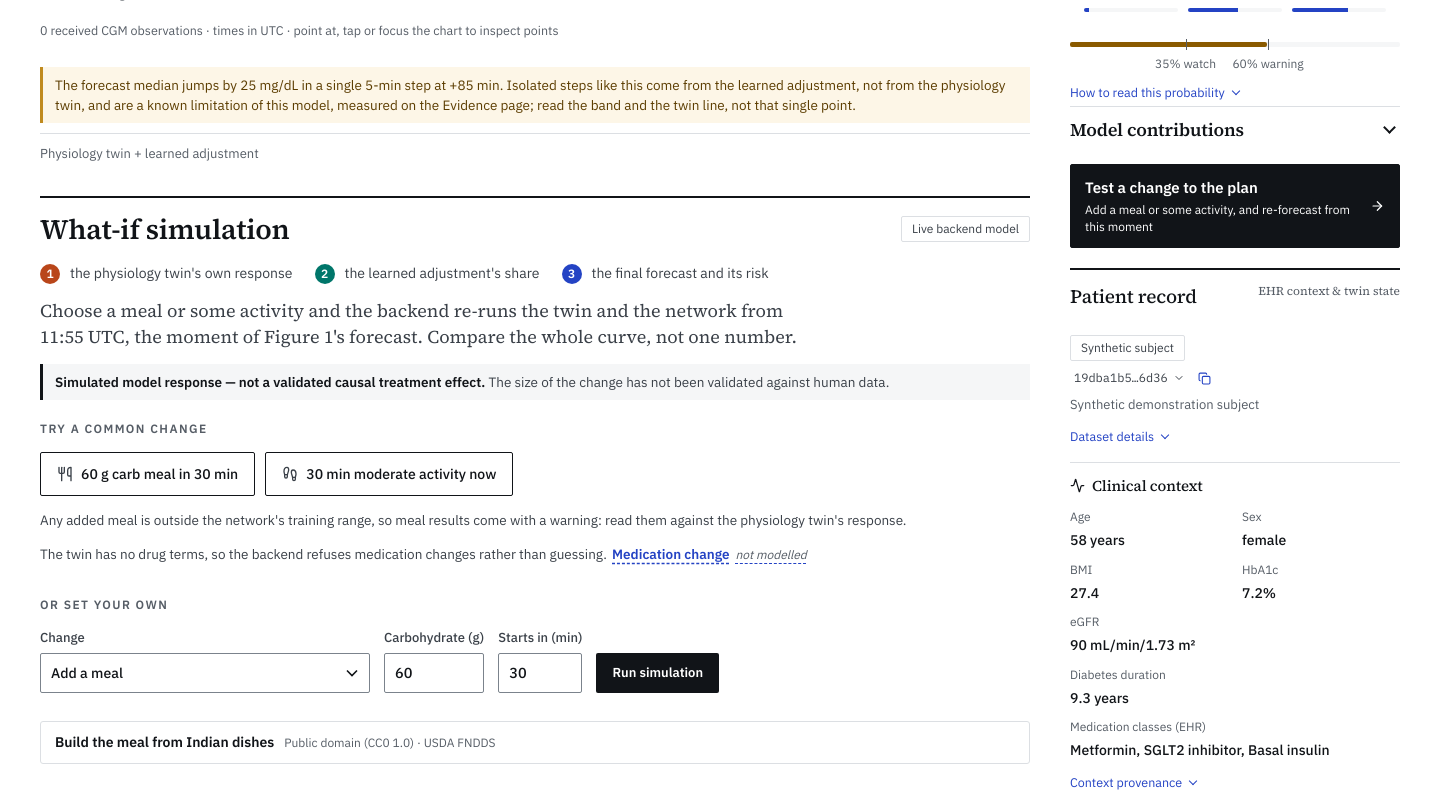
Test: Dataset provenance presentation and jargon elimination › preserves provenance in an accessible "Dataset details" disclosure and disclaims held-out evaluation for training subjects
The width and height of the screenshot is (1440, 801).
(page scrolled)
// Open disclosure
Click the heading "Dataset details". click: (1119, 437)
box: [1070, 423, 1168, 450]
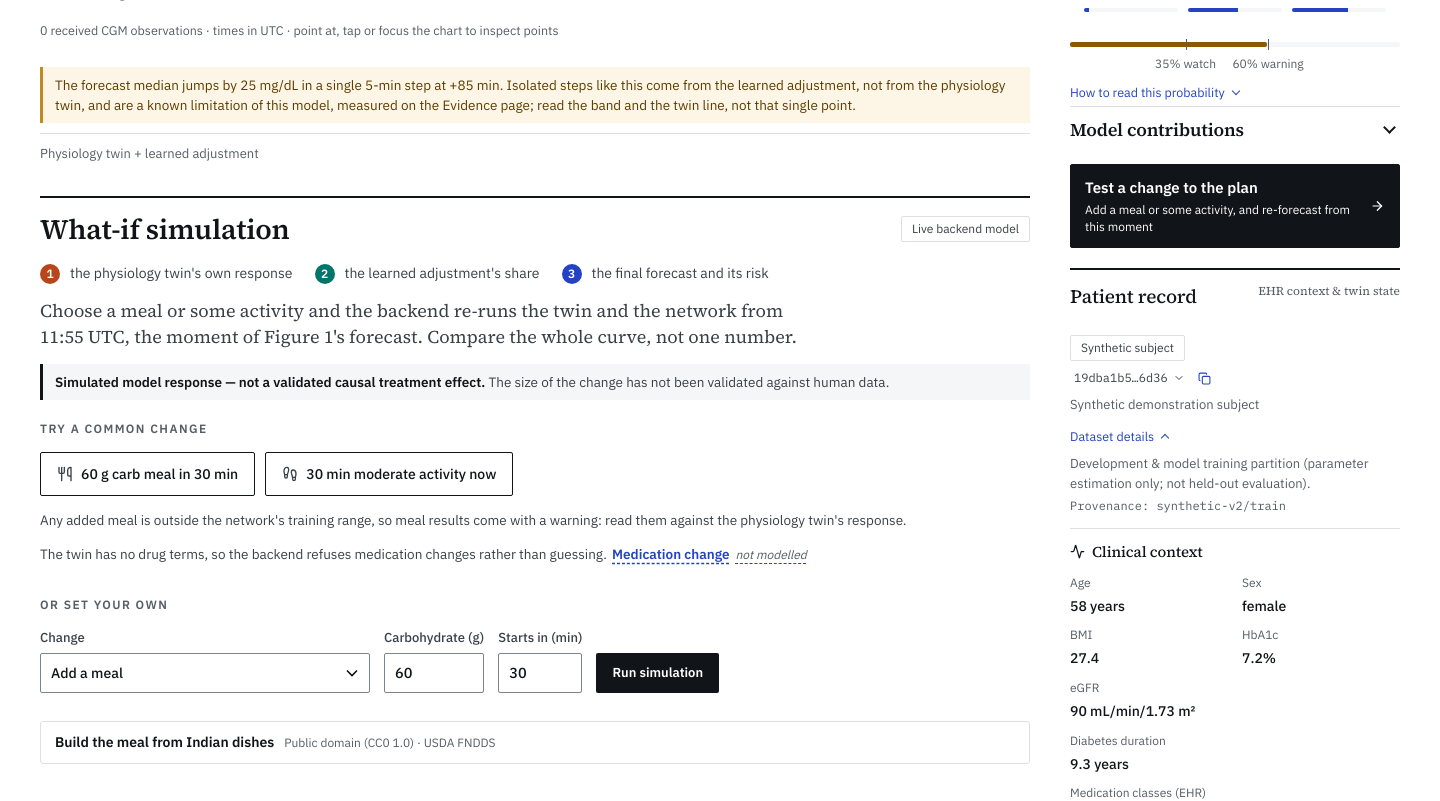
Expected: the element with test id "dataset-details" shows "Development & model training partition (parameter estimation only; not held-out evaluation).", [1070, 423, 1400, 516]
Expected: the element with test id "dataset-details" shows "Provenance: synthetic-v2/train", [1070, 423, 1400, 516]
